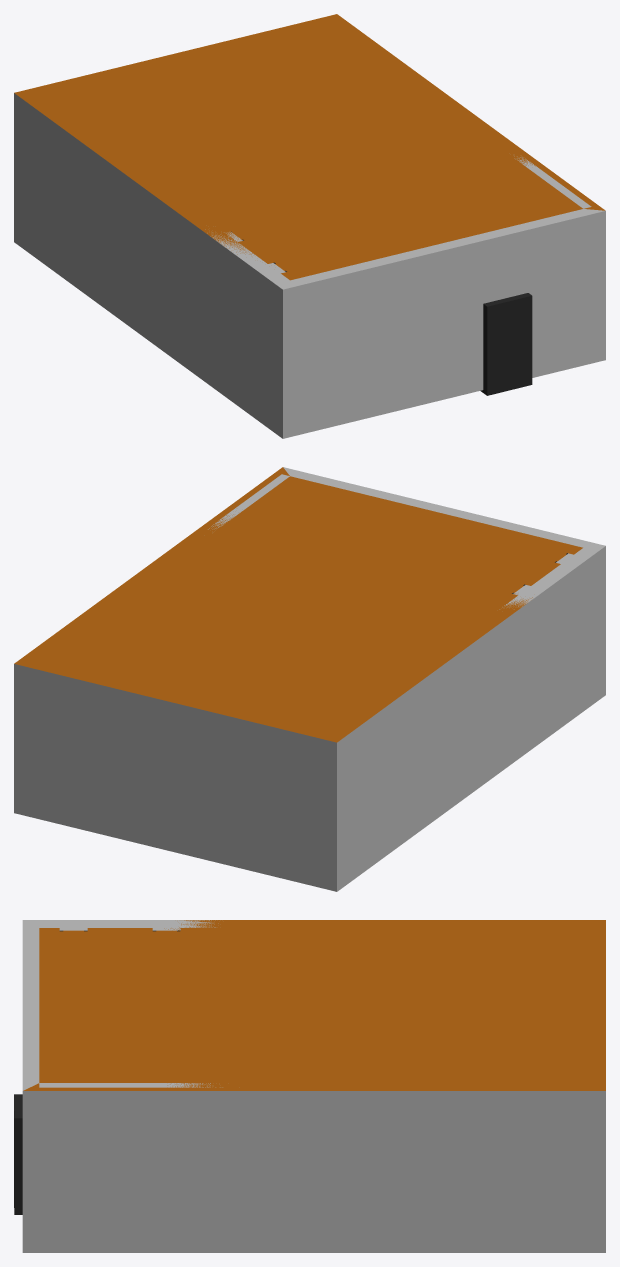
Rendered from hospitalRoom.inside.fbx.
3 renders of one model, top to bottom at view 1: azimuth 30°, elevation 25°; view 2: azimuth 150°, elevation 25°; view 3: azimuth 270°, elevation 25°, orthographic. The views are drawn at different scales.
Parts seen in each view (by area): view 1: walls, Plane, door.001; view 2: walls, Plane; view 3: walls, Plane, door.001.
Boxes of the visible parts, bbox=[...] form: walls: bbox=[14, 93, 605, 438]; Plane: bbox=[14, 14, 605, 280]; door.001: bbox=[480, 293, 532, 395]; walls: bbox=[14, 467, 605, 891]; Plane: bbox=[14, 467, 582, 742]; walls: bbox=[22, 920, 605, 1252]; Plane: bbox=[23, 920, 605, 1090]; door.001: bbox=[14, 1094, 22, 1214].
Bounding box in the file's own units: 758 × 348 × 1109.
